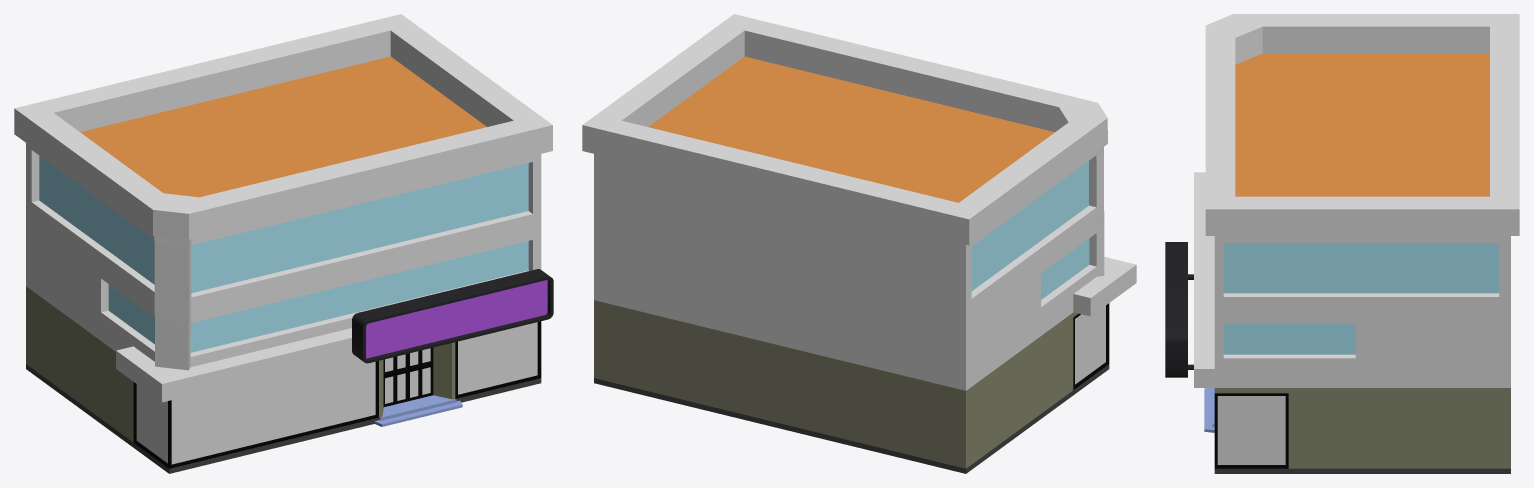
Rendered from storefront_basic.fbx.
The picture shows the model from 3 angles, left to right: view 1: azimuth 30°, elevation 25°; view 2: azimuth 150°, elevation 25°; view 3: azimuth 270°, elevation 25°; orthographic projection. The views are drawn at different scales.
Parts seen in each view (by area): view 1: storefront_basic; view 2: storefront_basic; view 3: storefront_basic.
Part boxes in pixels (box(x1,y1,x2,y2)): storefront_basic: box(14, 14, 553, 473); storefront_basic: box(582, 14, 1136, 473); storefront_basic: box(1165, 14, 1519, 473).
Size of the model in its own units: 1600 by 1000 by 1197.
